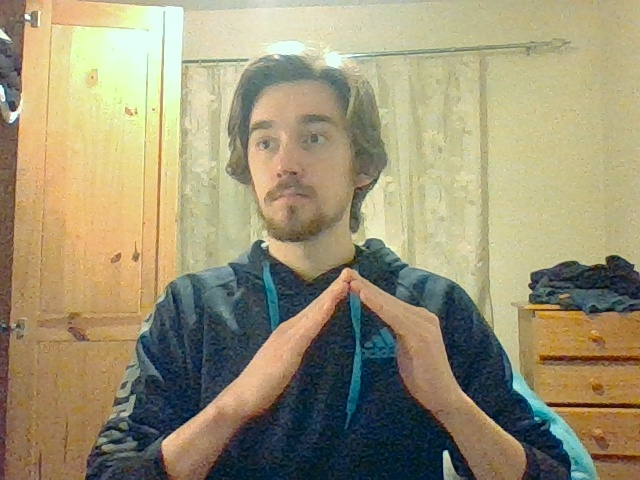home: (264, 267, 444, 360)
